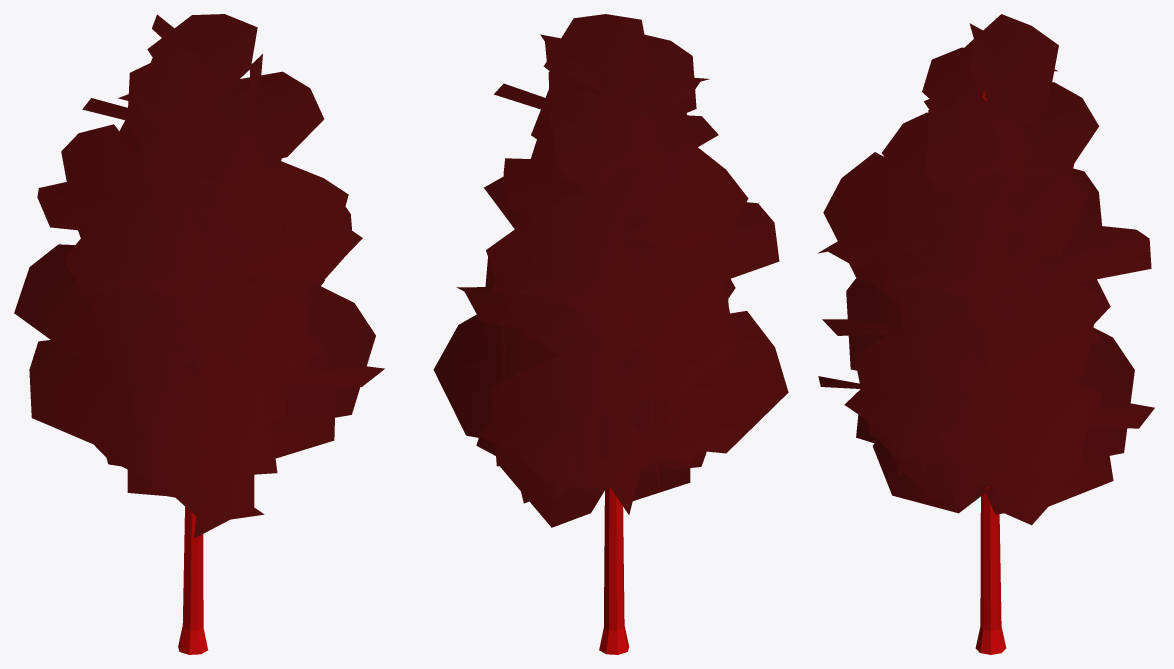
File: SM_Tree_Birch_01.glb
3 renders of one model, left to right at view 1: azimuth 30°, elevation 25°; view 2: azimuth 150°, elevation 25°; view 3: azimuth 270°, elevation 25°, orthographic.
Parts seen in each view (by area): view 1: SM_Tree_Birch_01; view 2: SM_Tree_Birch_01; view 3: SM_Tree_Birch_01.
Part boxes in pixels (x1,y1,x2,y2): SM_Tree_Birch_01: (14,14,384,654); SM_Tree_Birch_01: (433,14,788,654); SM_Tree_Birch_01: (817,14,1154,654).
Size of the model in its own units: 2.45 by 4.55 by 2.29.
